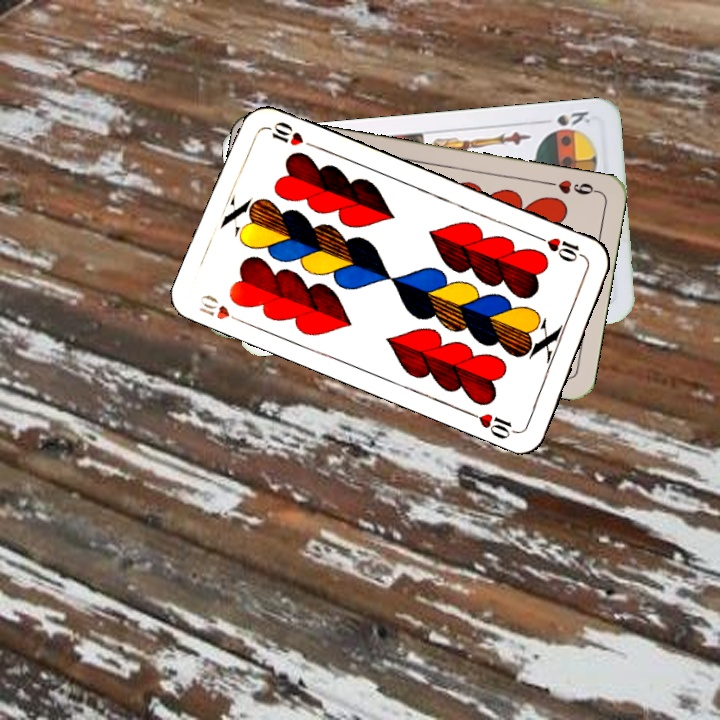H10: (195, 290, 249, 327), (533, 232, 589, 265)
H9: (542, 175, 601, 198)
SK: (544, 107, 594, 136)
